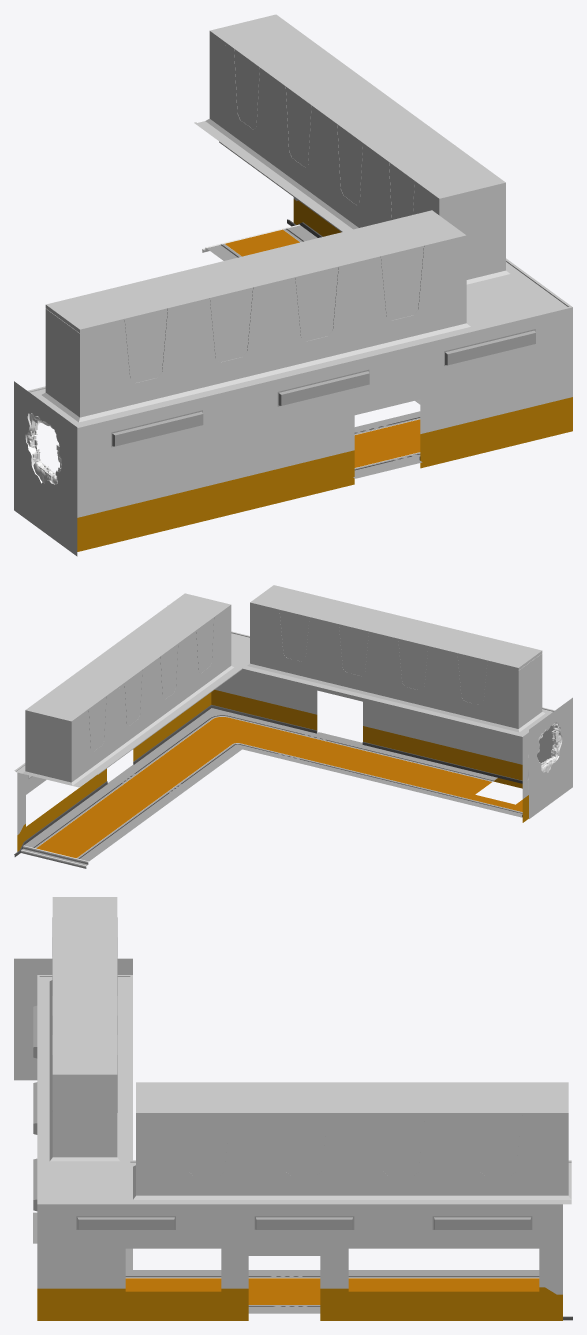
3 views of the same model, one above another, from view 1: azimuth 30°, elevation 25°; view 2: azimuth 150°, elevation 25°; view 3: azimuth 270°, elevation 25° (orthographic). The views are drawn at different scales.
Visible parts, largest first — view 1: SM_H_Building_FutureTech_HLight_01_InterWall_11D; view 2: SM_H_Building_FutureTech_HLight_01_InterWall_11D; view 3: SM_H_Building_FutureTech_HLight_01_InterWall_11D.
Part boxes in pixels (x1,y1,x2,y2): SM_H_Building_FutureTech_HLight_01_InterWall_11D: (14, 14, 572, 556); SM_H_Building_FutureTech_HLight_01_InterWall_11D: (14, 585, 572, 868); SM_H_Building_FutureTech_HLight_01_InterWall_11D: (14, 897, 572, 1320).
Bounding box in the file's own units: 807 × 803 × 321.
